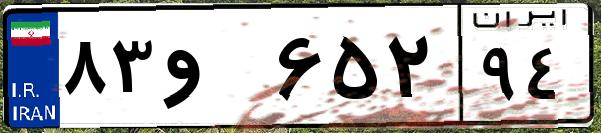2: (385, 28, 445, 110)
3: (110, 28, 158, 98)
4: (525, 38, 570, 115)
5: (330, 28, 385, 110)
6: (270, 28, 330, 110)
8: (57, 26, 110, 100)
9: (475, 38, 525, 113)
و: (158, 20, 270, 120)
